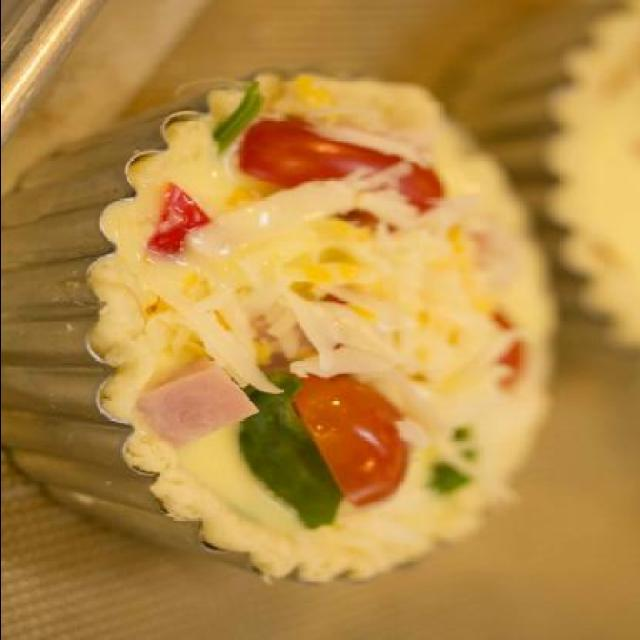Muffin: (32, 56, 560, 604), (459, 0, 640, 358)
